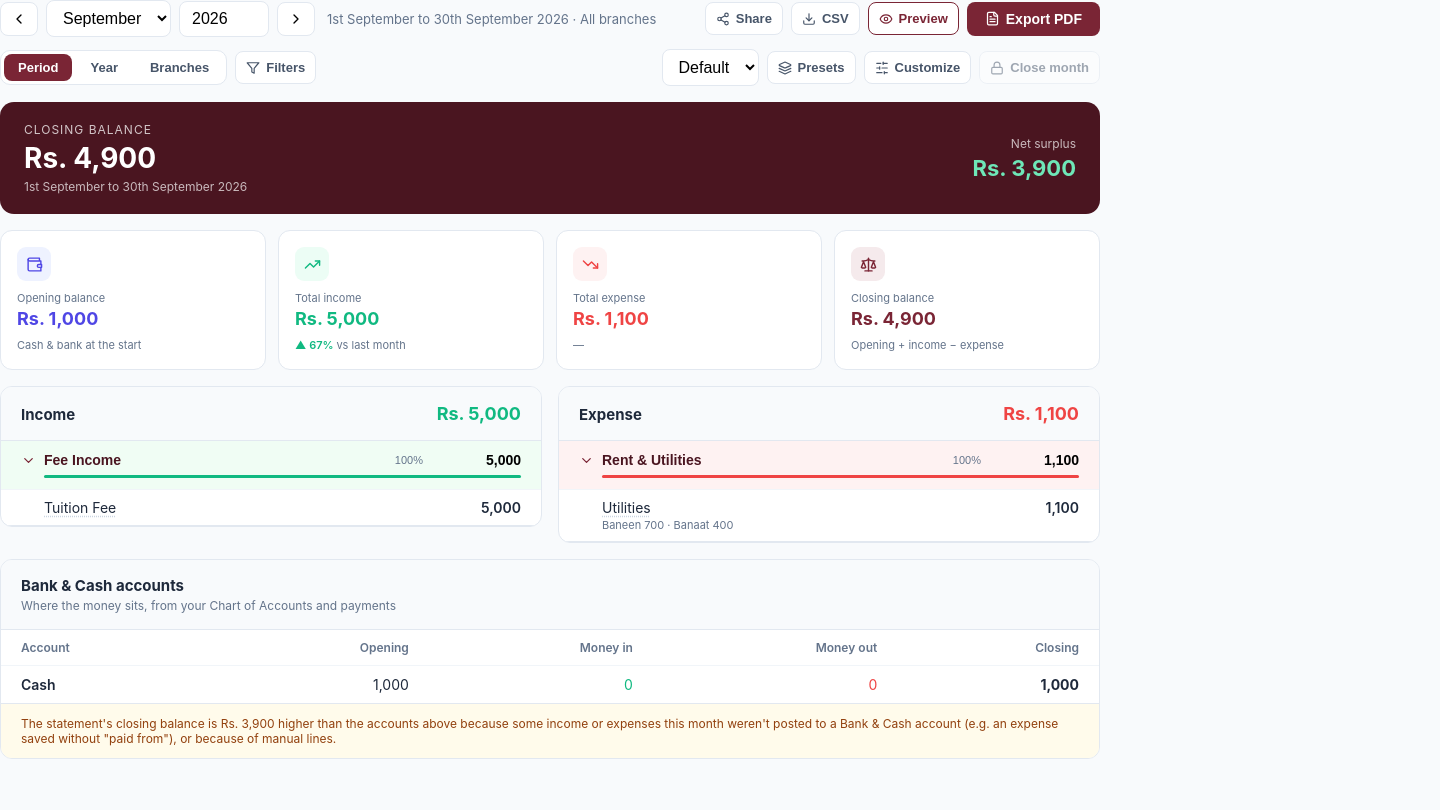
Test: clicking a head opens the records behind it
The width and height of the screenshot is (1440, 810).
Click the button "Utilities Baneen 700 · Banaat 400 1,100". click: (626, 508)
box: [559,489,1099,541]
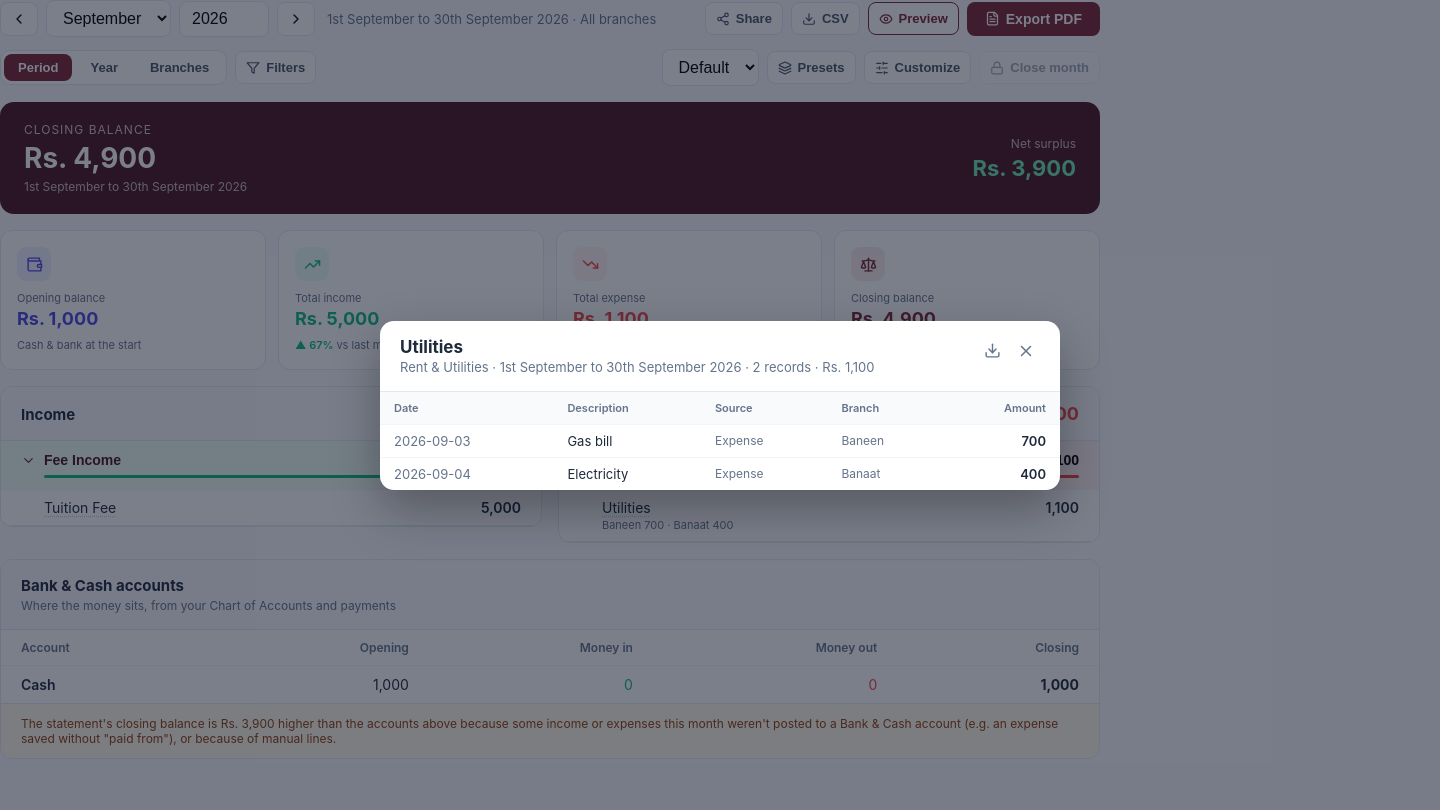
Check: the dialog shows "Gas bill", box [567,432,612,448]
Check: the dialog shows "Electricity", box [567,466,628,482]
